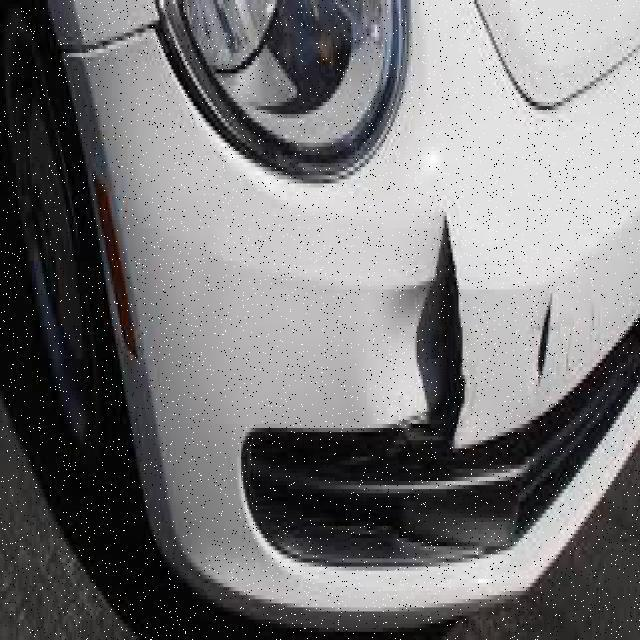car damage: (119, 137, 578, 606)
